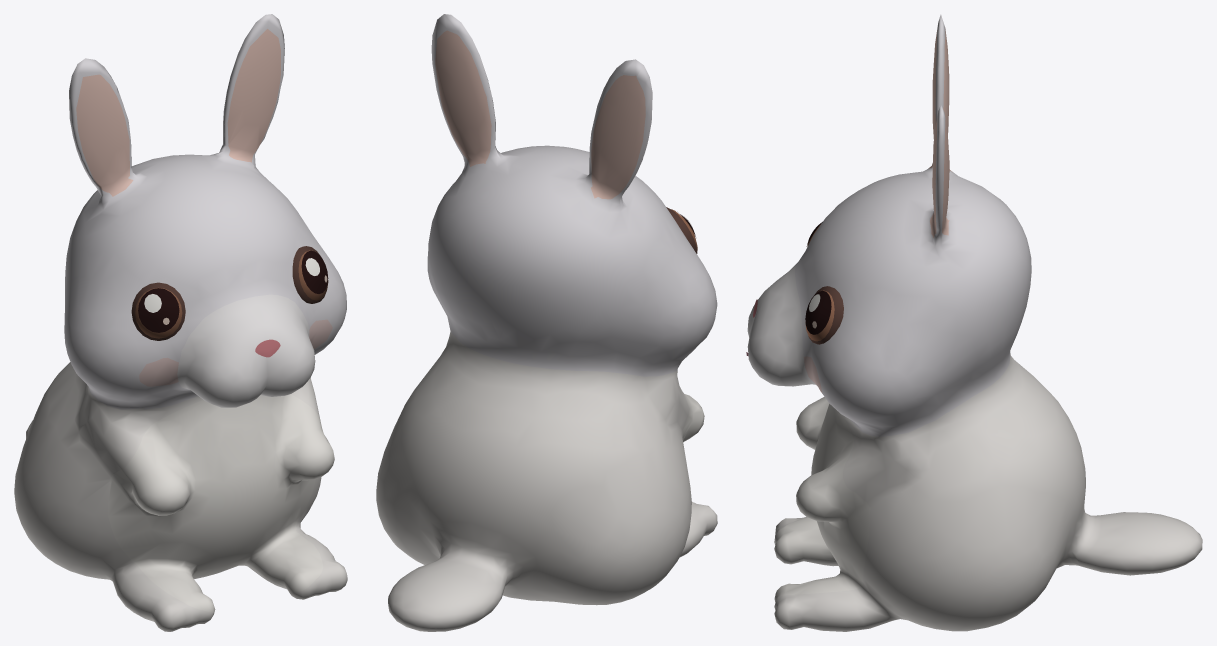
File: lepara.glb
3 renders of one model, left to right at view 1: azimuth 30°, elevation 25°; view 2: azimuth 150°, elevation 25°; view 3: azimuth 270°, elevation 25°, orthographic. The views are drawn at different scales.
Parts seen in each view (by area): view 1: body, eyes; view 2: body; view 3: body, eyes.
Part boxes in pixels (x1,y1,x2,y2): body: (14,14,347,631); eyes: (131,246,328,357); body: (376,14,717,631); body: (747,14,1202,631); eyes: (746,222,843,356).
Bounding box in the file's own units: 0.5434 × 0.9808 × 0.7622.
